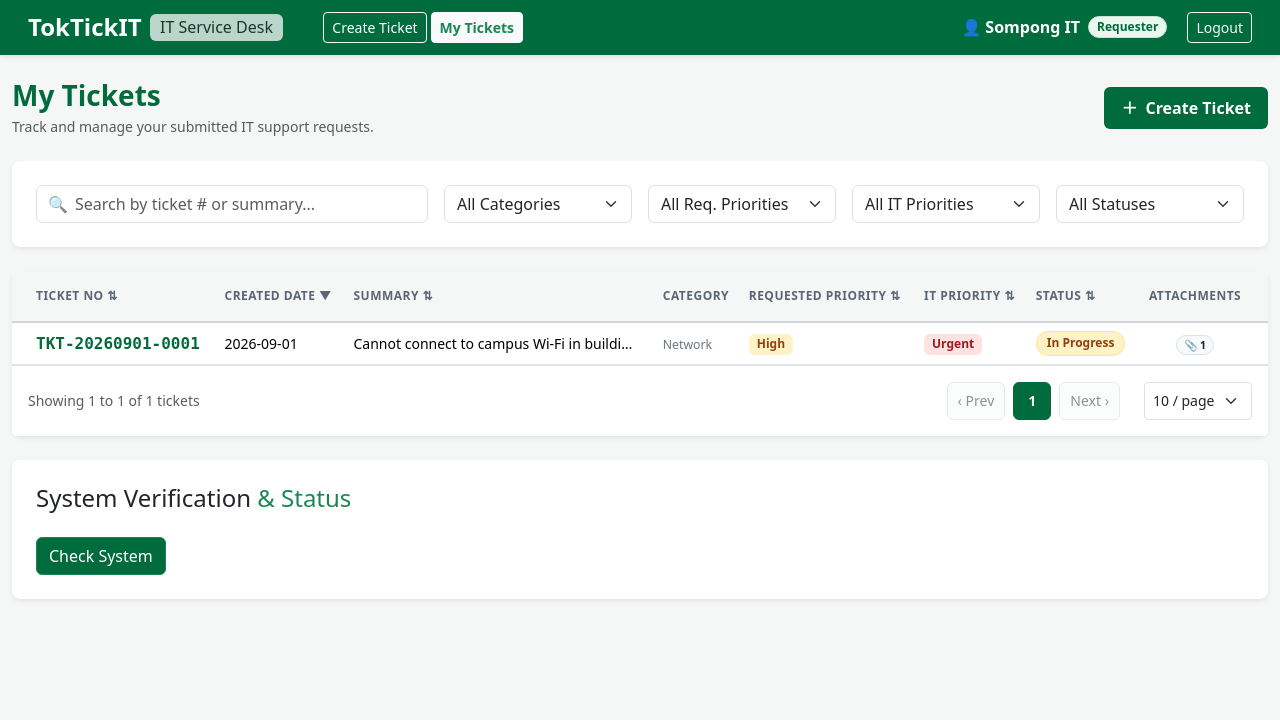
Test: Feature 9: Requester Ticket Detail Component (STS UI-TD-01 to UI-TD-07) › UI-TD-E2E: App switches between MyTickets and RequesterTicketDetail seamlessly
This screenshot has width=1280, height=720.
Click on ticket number link
Click the button with test id "ticket-link-101" at (118,344), box [36,332,200,356]
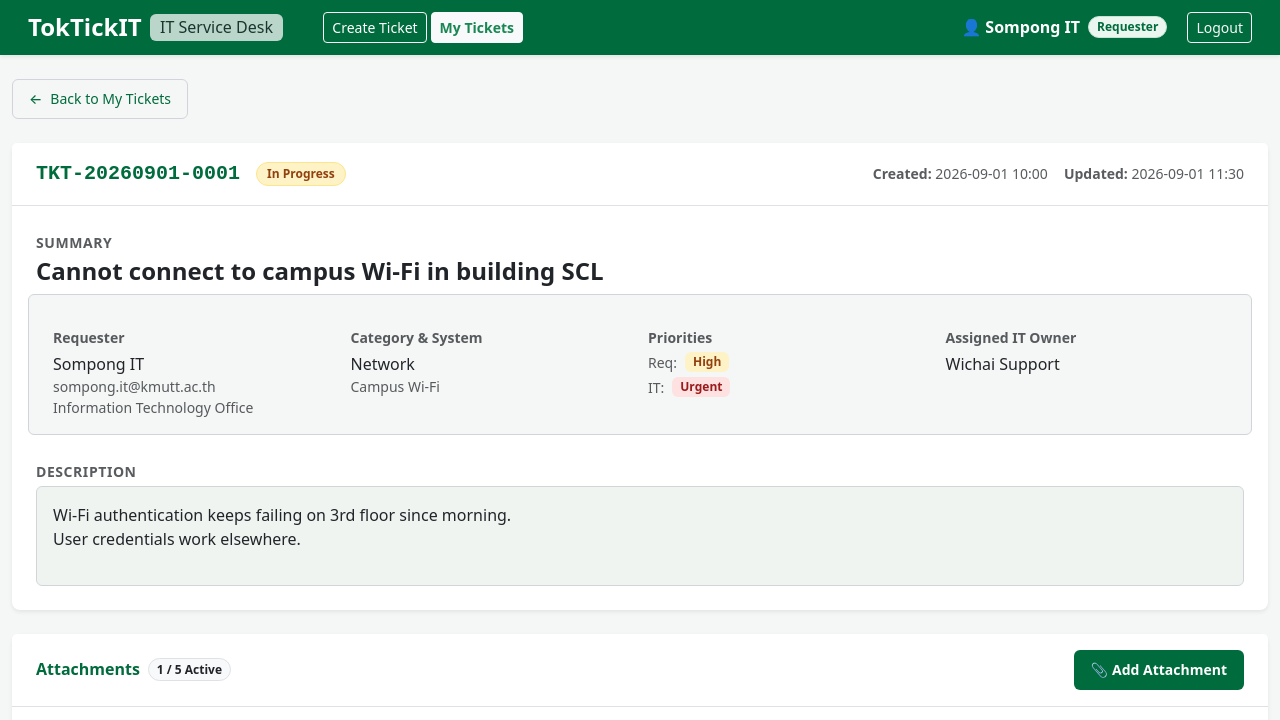
Expected: the text with test id "ticket-number" reads "TKT-20260901-0001", [36,162,240,185]
Click Back to My Tickets
Click the button with test id "back-to-tickets-btn" at (100,99), box [12,79,188,119]
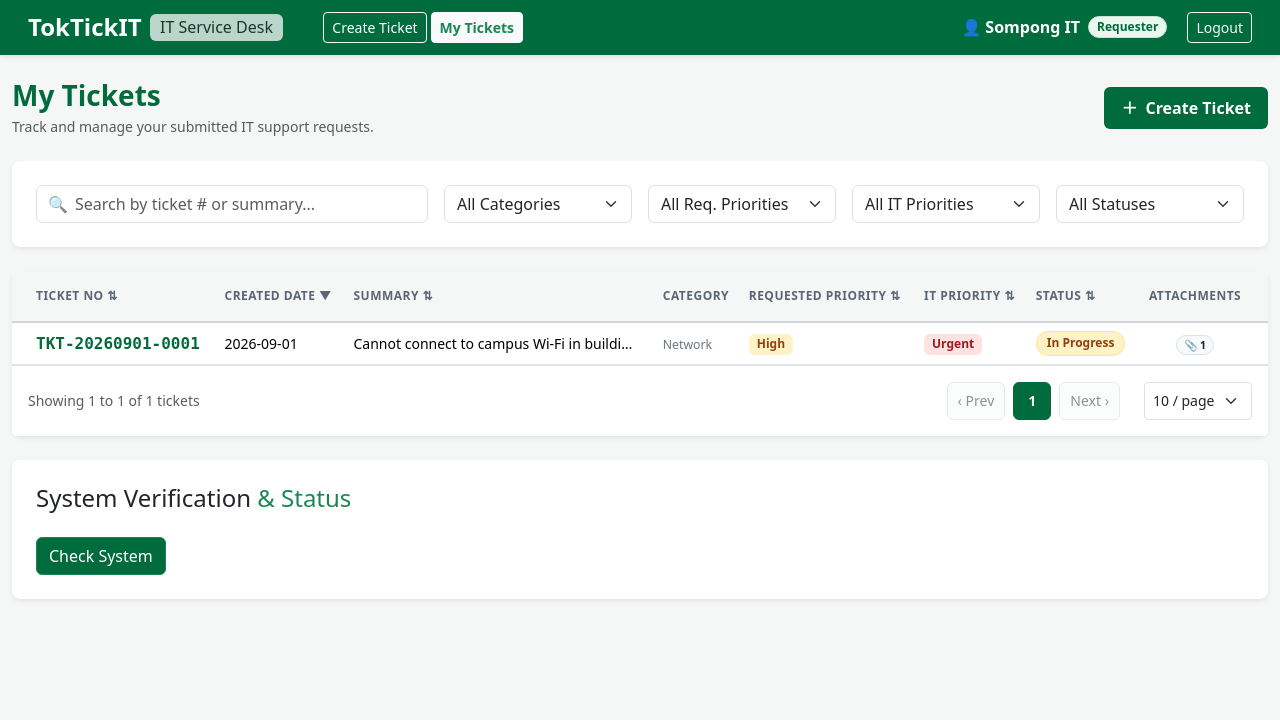
Expected: the element with test id "my-tickets-container" is shown, [12,79,1268,436]
